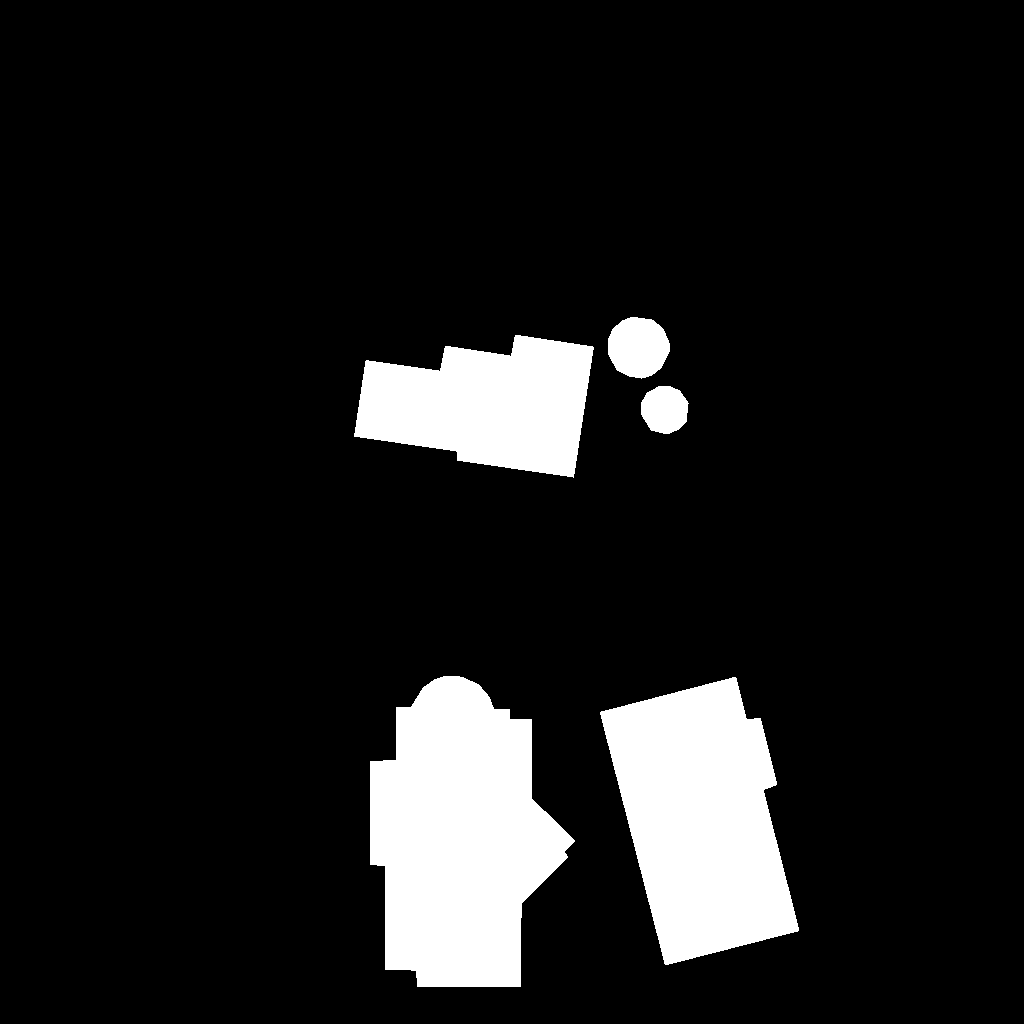building: (370, 676, 576, 987), (600, 677, 800, 966), (354, 335, 595, 478), (608, 317, 670, 379), (641, 386, 690, 435)
